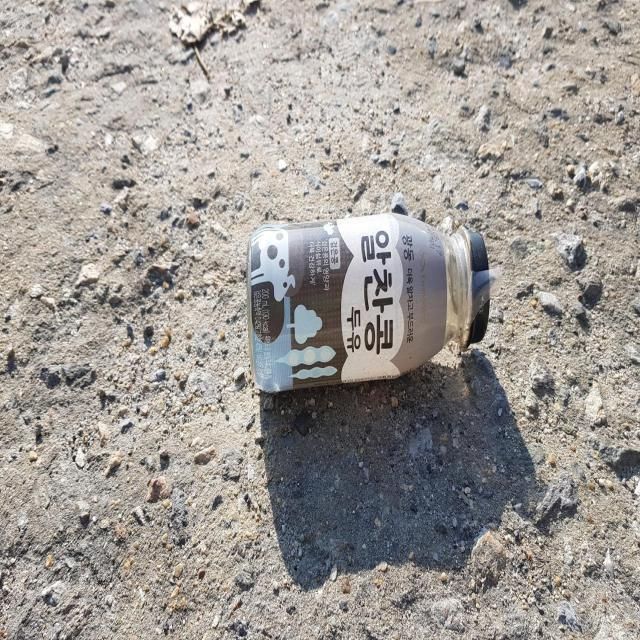glass: (247, 212, 490, 390)
